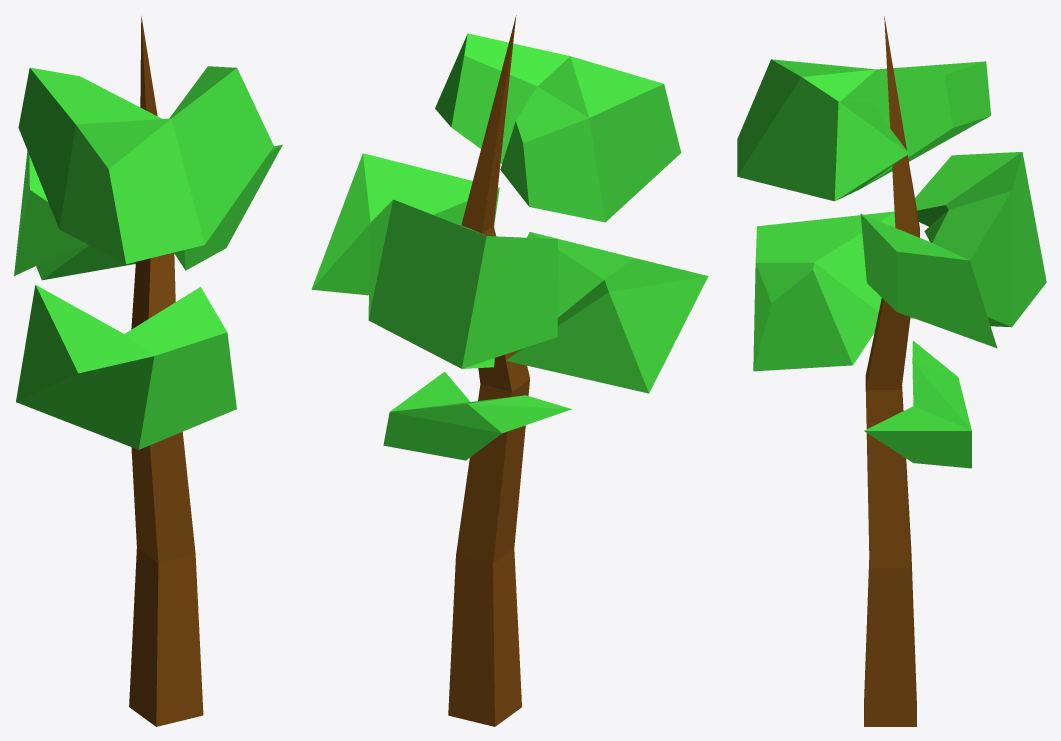
Rendered from Tree2.fbx.
3 renders of one model, left to right at view 1: azimuth 30°, elevation 25°; view 2: azimuth 150°, elevation 25°; view 3: azimuth 270°, elevation 25°, orthographic. The views are drawn at different scales.
Visible parts, largest first — view 1: Cube; view 2: Cube; view 3: Cube.
Boxes of the visible parts, x1,y1,x2,y2 form: Cube: (14,16,282,726); Cube: (311,15,708,726); Cube: (737,16,1046,726).
Size of the model in its own units: 1066 by 2593 by 1057.
